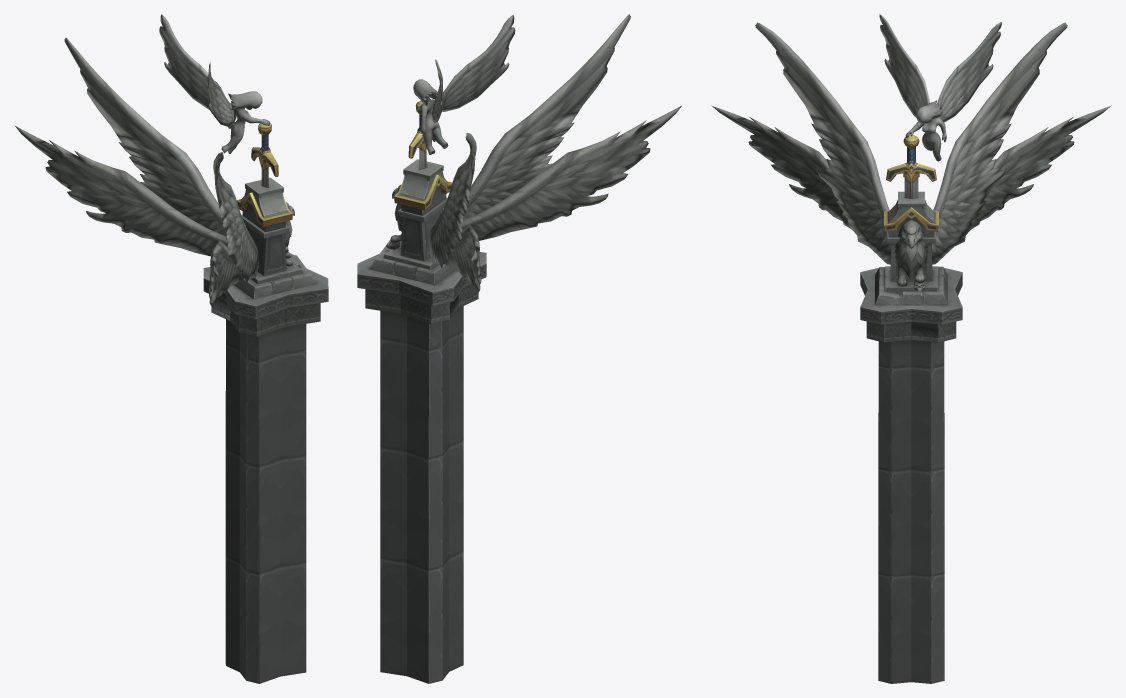
Rendered from sc_dungeon_moshenta_diaoxiang_002.FBX.
3 renders of one model, left to right at view 1: azimuth 30°, elevation 25°; view 2: azimuth 150°, elevation 25°; view 3: azimuth 270°, elevation 25°, orthographic. The views are drawn at different scales.
Parts seen in each view (by area): view 1: sc_dungeon_moshenta_diaoxiang_002; view 2: sc_dungeon_moshenta_diaoxiang_002; view 3: sc_dungeon_moshenta_diaoxiang_002.
Part boxes in pixels (x1,y1,x2,y2): sc_dungeon_moshenta_diaoxiang_002: (15,14,328,683); sc_dungeon_moshenta_diaoxiang_002: (357,14,681,683); sc_dungeon_moshenta_diaoxiang_002: (711,14,1111,683).
Size of the model in its own units: 7.69 by 23.75 by 13.88.
Materials: 1 (1 with a texture image).
